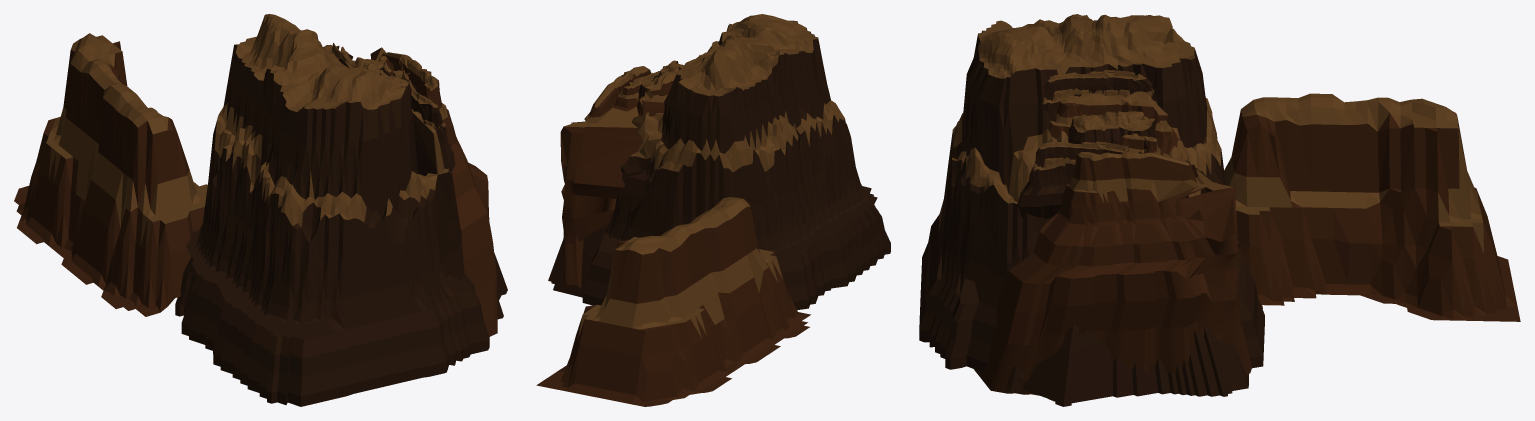
File: montañaGiGante.fbx
The picture shows the model from 3 angles, left to right: view 1: azimuth 30°, elevation 25°; view 2: azimuth 150°, elevation 25°; view 3: azimuth 270°, elevation 25°; orthographic projection. The views are drawn at different scales.
Parts seen in each view (by area): view 1: Montaña; view 2: Montaña; view 3: Montaña.
Boxes of the visible parts, x1=… form: Montaña: x1=14, y1=14, x2=507, y2=406; Montaña: x1=536, y1=14, x2=890, y2=406; Montaña: x1=919, y1=14, x2=1520, y2=406.
Size of the model in its own units: 12140 by 10590 by 18956.
